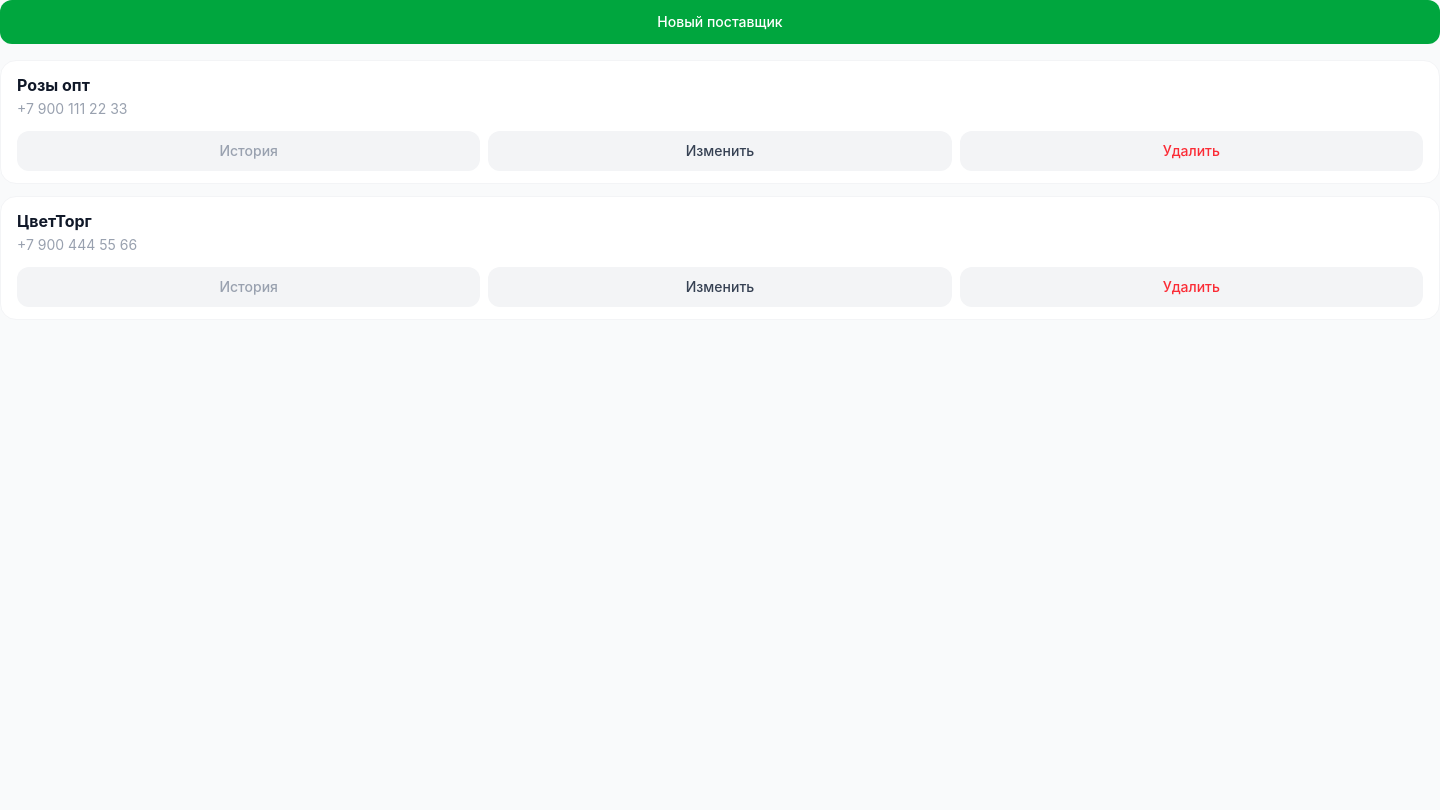
Scenario: SuppliersPage › открывает bottom sheet при клике «История»
Click the button "История" below "Розы опт" at (249, 151), box [17,131,480,171]
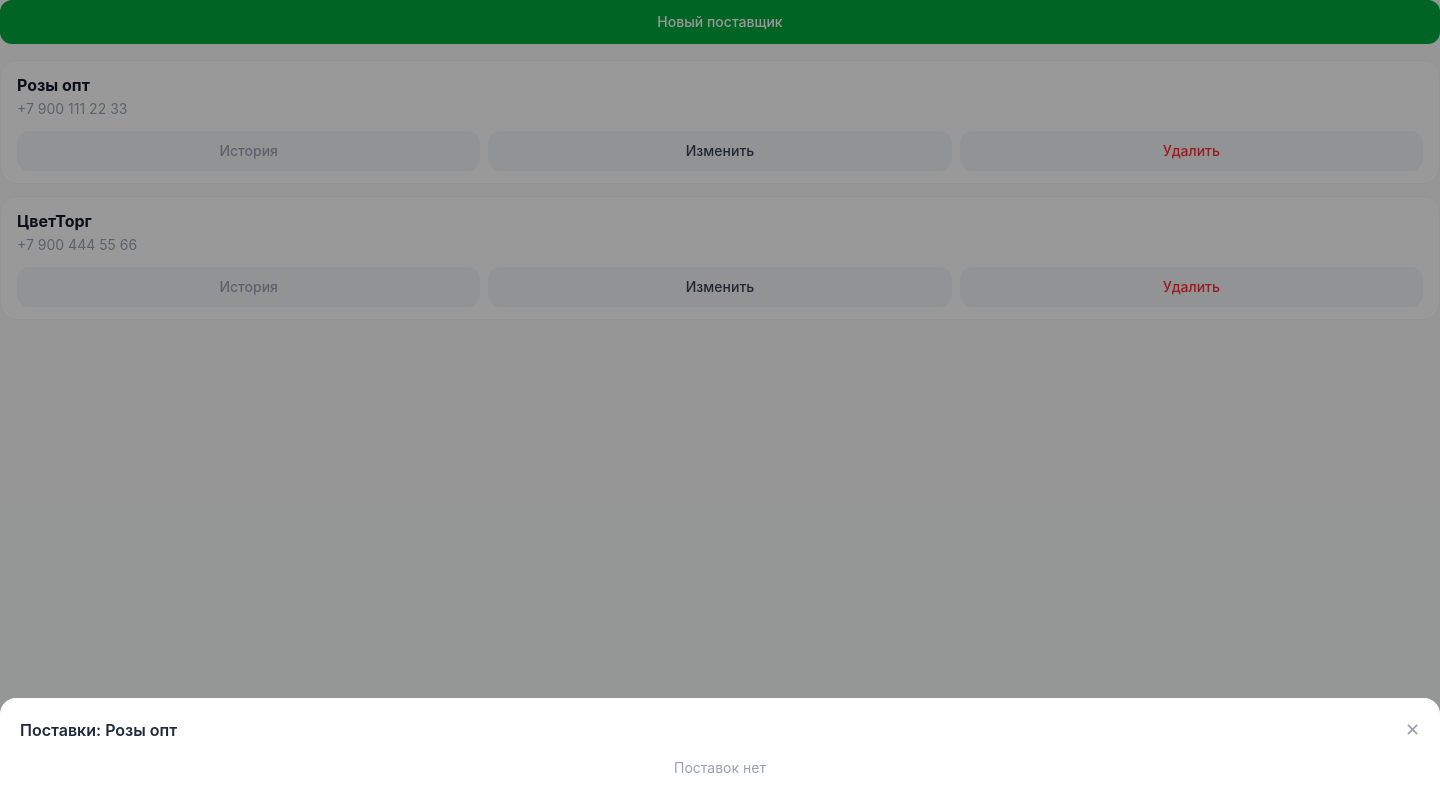
Expected: the text "Поставки: Розы опт" is shown, [20,718,177,742]
